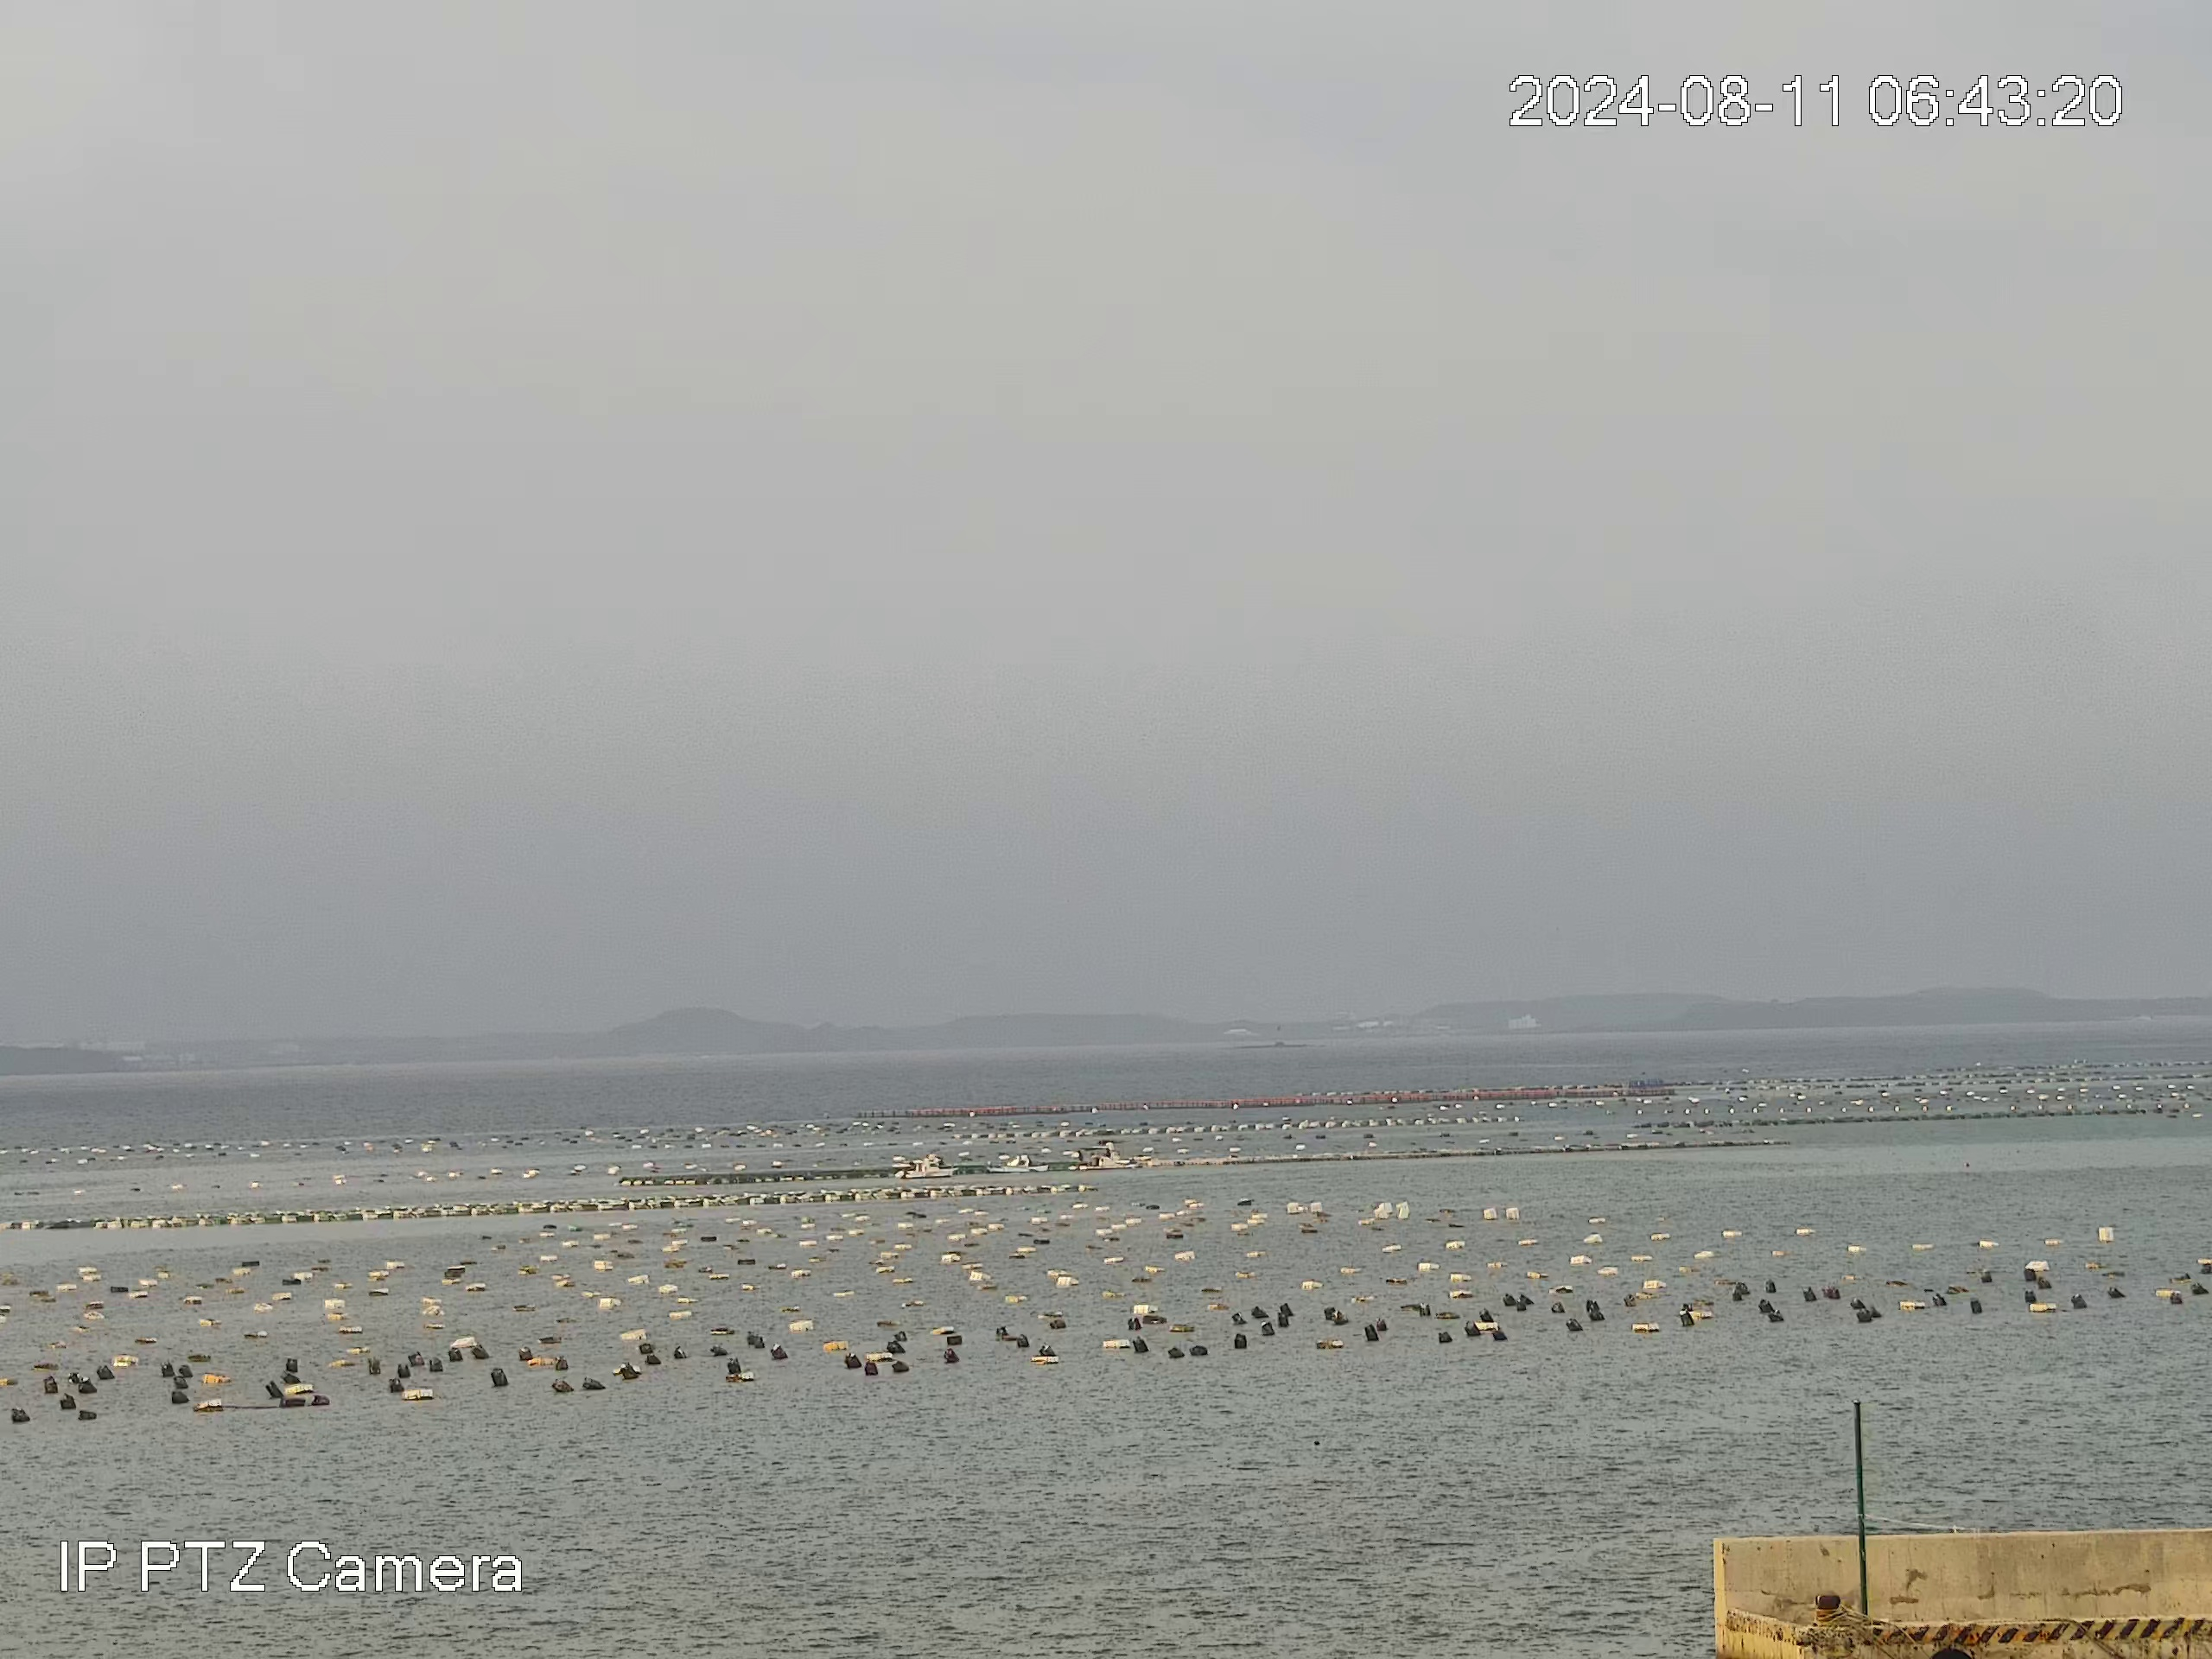boat: (892, 1154, 960, 1178), (984, 1154, 1049, 1175), (1068, 1154, 1118, 1171)
